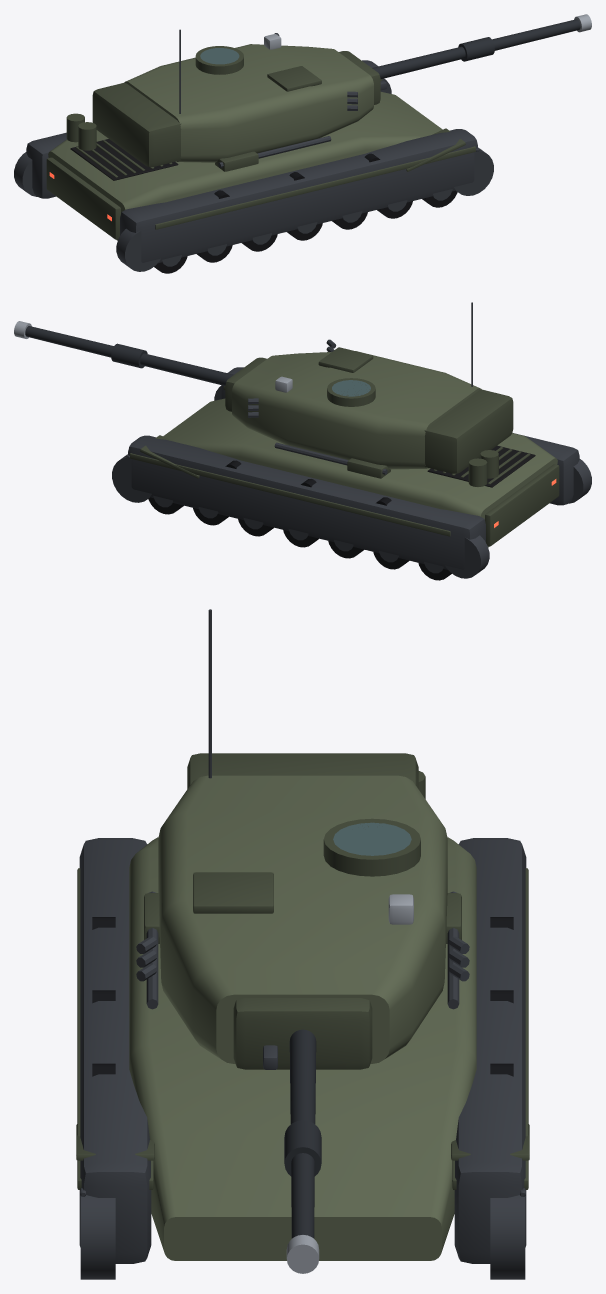
The model's file is tank.glb.
3 views of the same model, one above another, from view 1: azimuth 30°, elevation 25°; view 2: azimuth 150°, elevation 25°; view 3: azimuth 270°, elevation 25° (orthographic). The views are drawn at different scales.
Visible parts, largest first — view 1: body, turret; view 2: body, turret; view 3: body, turret.
Boxes of the visible parts, <box> form: body: <box>14,60,493,273</box>; turret: <box>92,14,591,166</box>; body: <box>112,367,591,580</box>; turret: <box>14,302,513,473</box>; body: <box>76,771,529,1279</box>; turret: <box>136,609,469,1273</box>.
Size of the model in its own units: 10.35 by 4.1 by 3.92.
